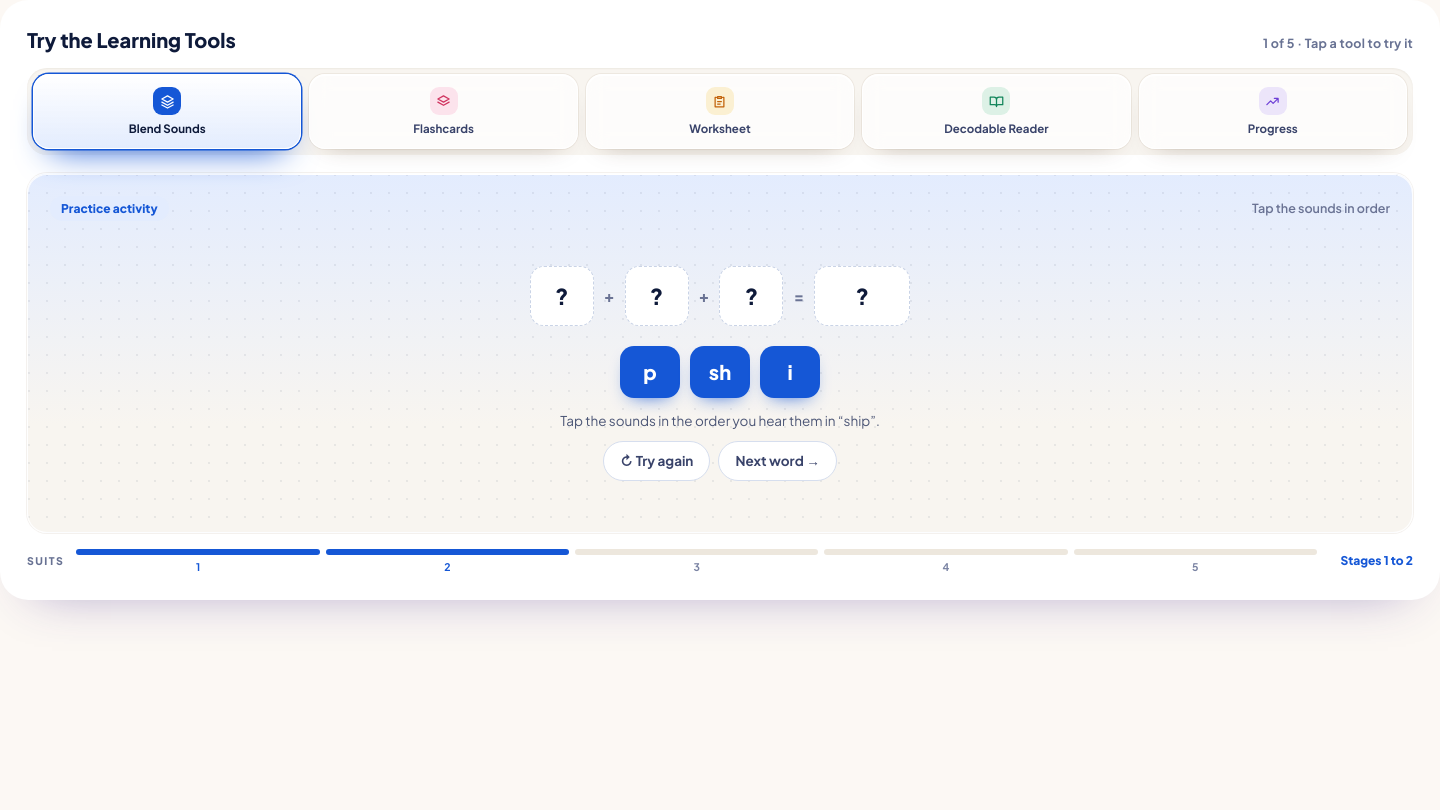
Test: LearningTools › switches tools on click and shows 'All stages' for the tool that suits every stage
Click the tab "Progress" at (1273, 111), box [1139,74,1407,149]
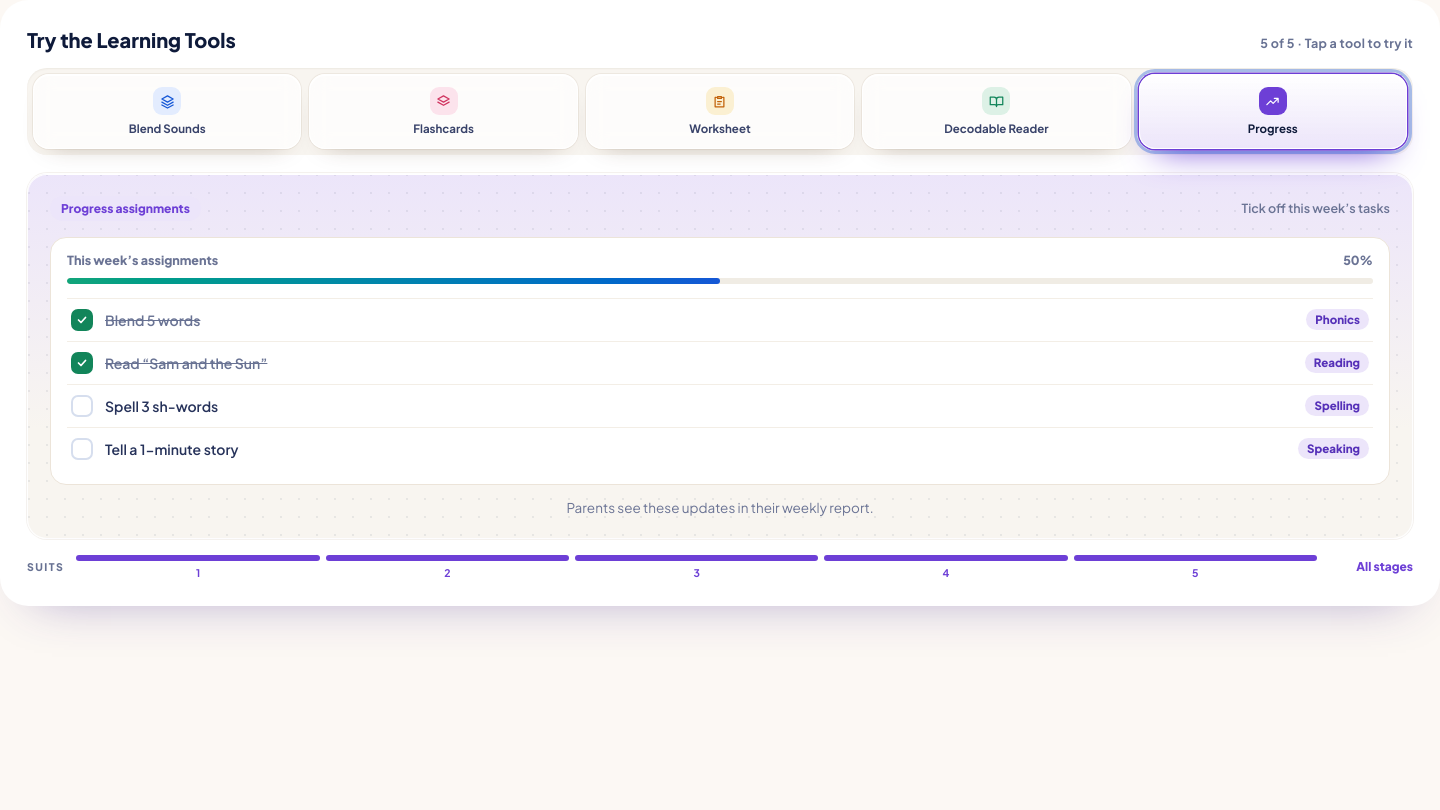
Check: the panel named "Progress" is shown, box [50,221,1390,516]
Check: the text "All stages" is shown, box [1356,559,1413,574]
